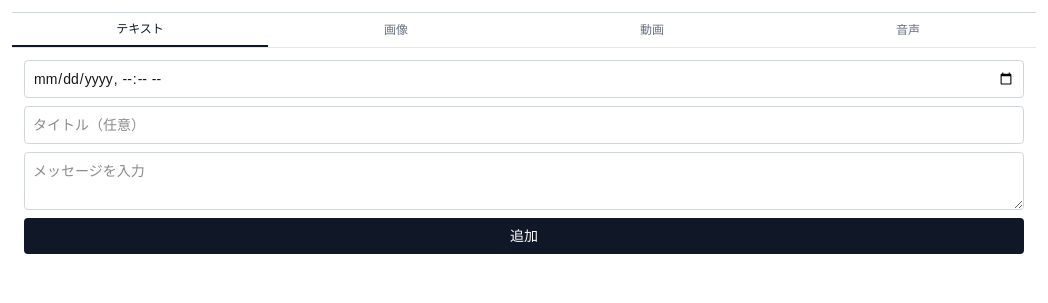
Test case: ChatComposer › shows image-specific fields on image tab
Step 1. Click the button "画像" → [396, 30], box x1=268 y1=13 x2=524 y2=47
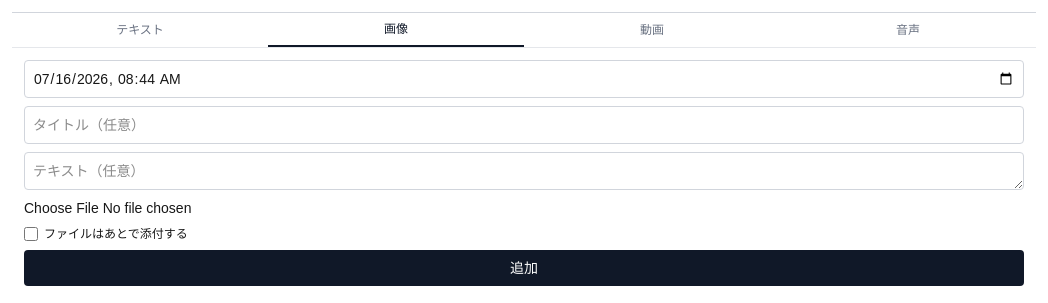
Result: the text box with placeholder "テキスト（任意）" is shown at x1=24 y1=152 x2=1024 y2=190
